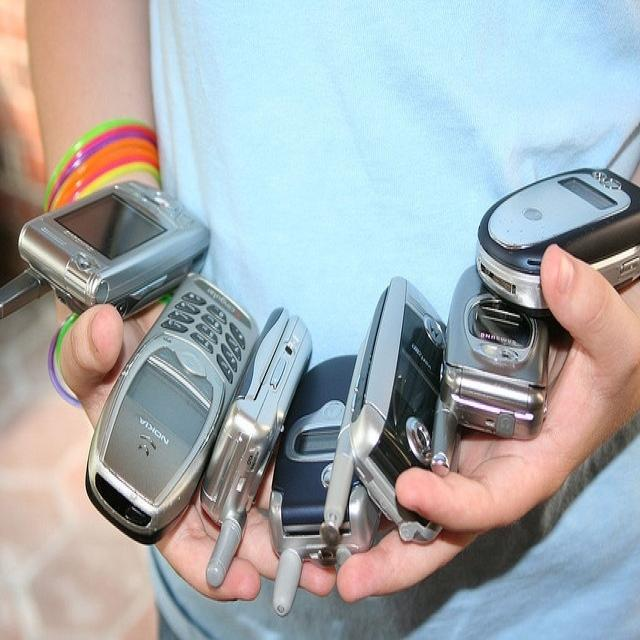E-waste: (25, 135, 640, 612)
